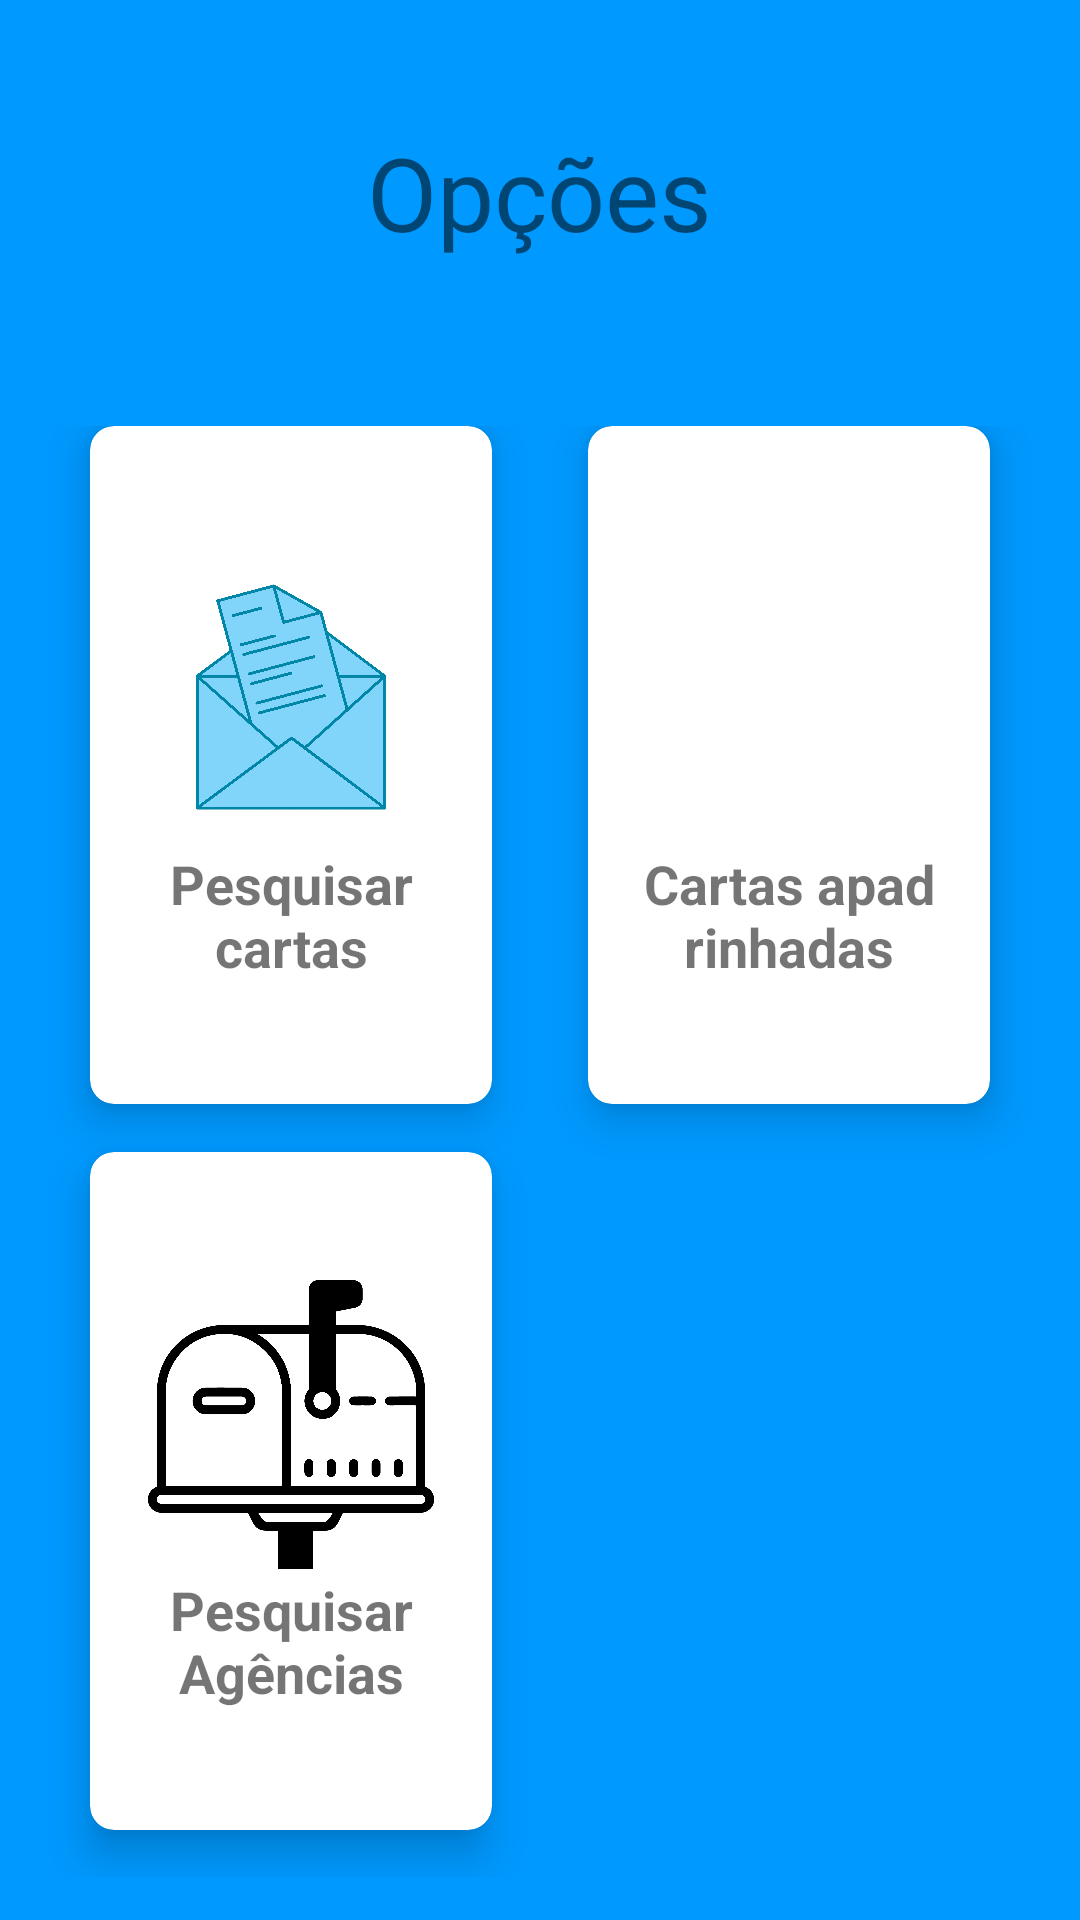

Named icons in this screenshot (1080 × 1920) and their centers, [x,y]:
correio: [291,1424]
